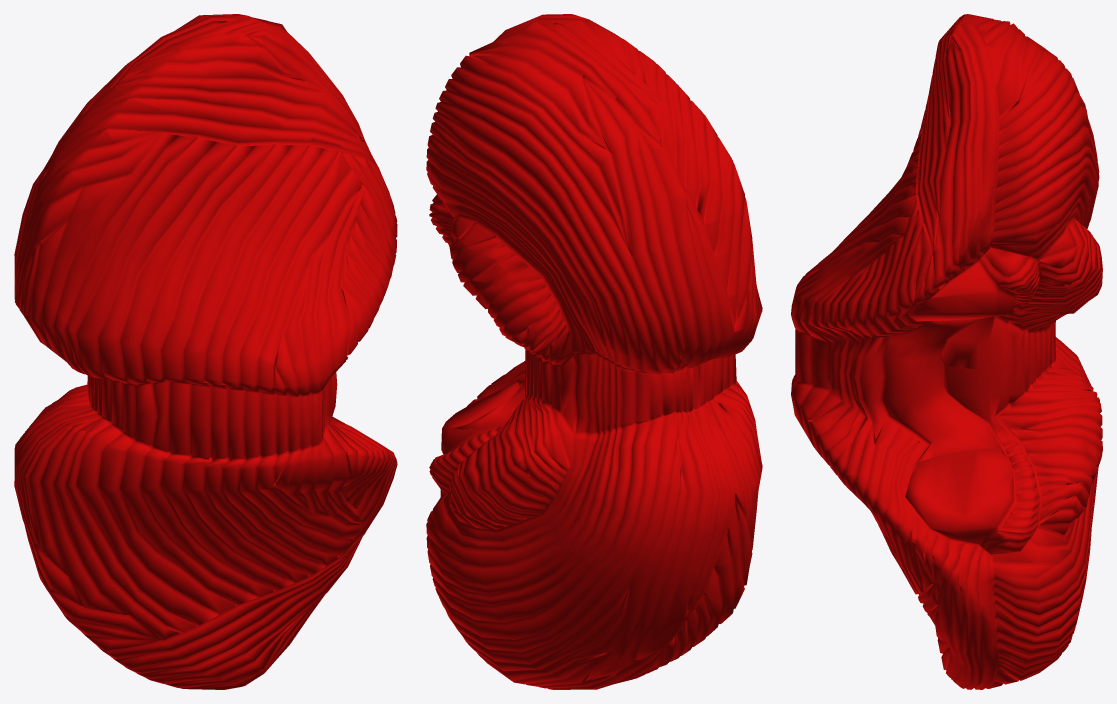
The model's file is region_15.obj.
The picture shows the model from 3 angles, left to right: view 1: azimuth 30°, elevation 25°; view 2: azimuth 150°, elevation 25°; view 3: azimuth 270°, elevation 25°; orthographic projection.
Parts seen in each view (by area): view 1: ID141; view 2: ID141; view 3: ID141.
Boxes of the visible parts, <box> form: ID141: <box>14,14,397,689</box>; ID141: <box>426,14,762,689</box>; ID141: <box>791,14,1102,689</box>.
Bounding box in the file's own units: 70.69 × 132 × 57.48.
